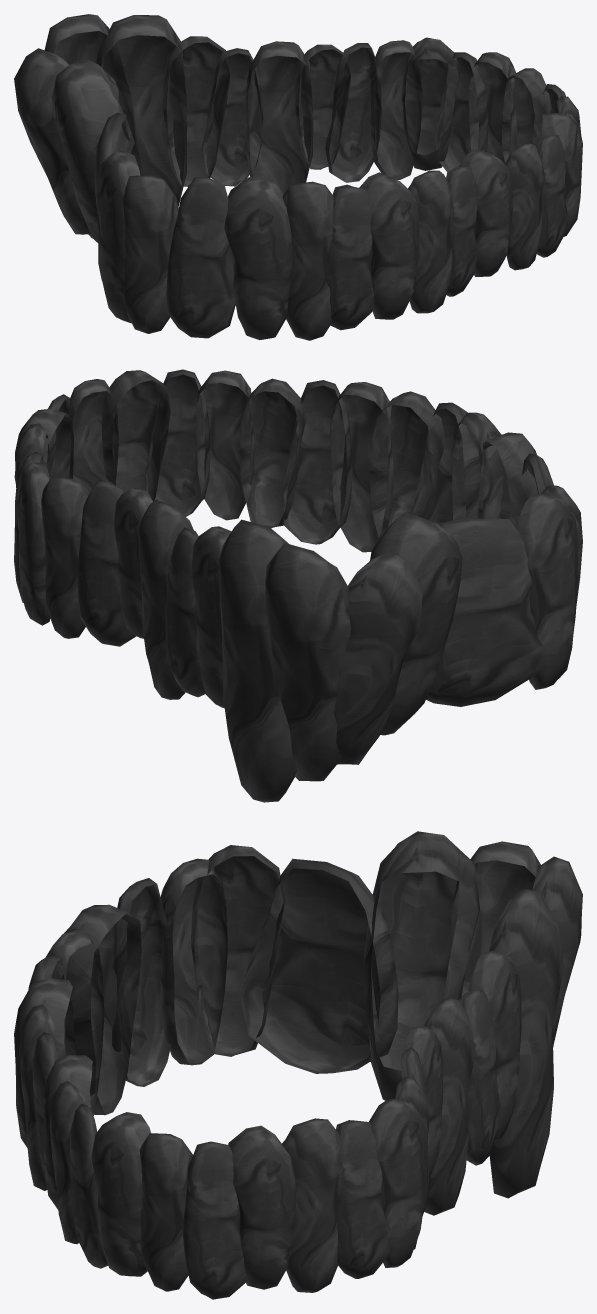
File: TILowerBorderStonesShape.dae
3 renders of one model, top to bottom at view 1: azimuth 30°, elevation 25°; view 2: azimuth 150°, elevation 25°; view 3: azimuth 270°, elevation 25°, orthographic. The views are drawn at different scales.
Parts seen in each view (by area): view 1: TILowerBorderStones; view 2: TILowerBorderStones; view 3: TILowerBorderStones.
Boxes of the visible parts, box(x1,y1,x2,y2) form: TILowerBorderStones: box(14, 14, 582, 340); TILowerBorderStones: box(14, 369, 582, 802); TILowerBorderStones: box(14, 831, 582, 1299).
Bounding box in the file's own units: 123 × 61.79 × 106.
